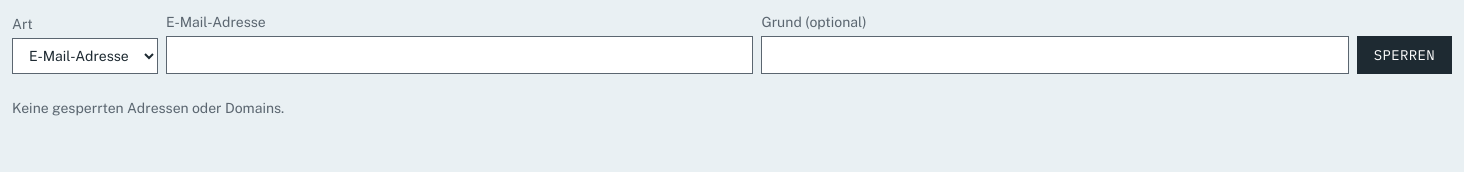
Test case: AdminBlocklistPage › adds a new blocked email and prepends it to the list
Expected: the text "Keine gesperrten Adressen oder Domains." is shown, [12,100,284,116]
Step 1. Type "new-spam@example.com" into the field labelled "E-Mail-Adresse" → (460, 55), box [166,36,753,74]
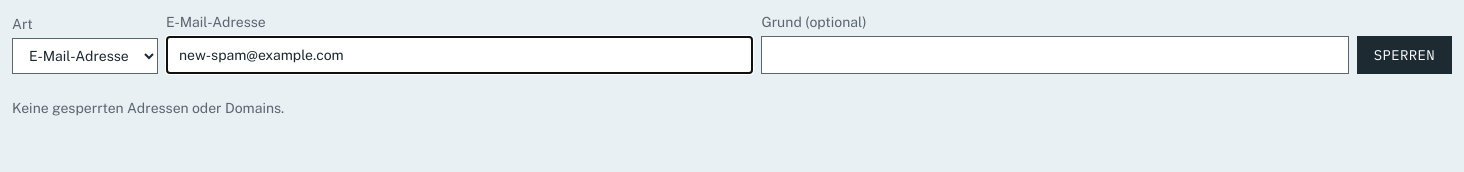
Step 2. Click the button "Sperren" → (1404, 55), box [1357,36,1452,74]
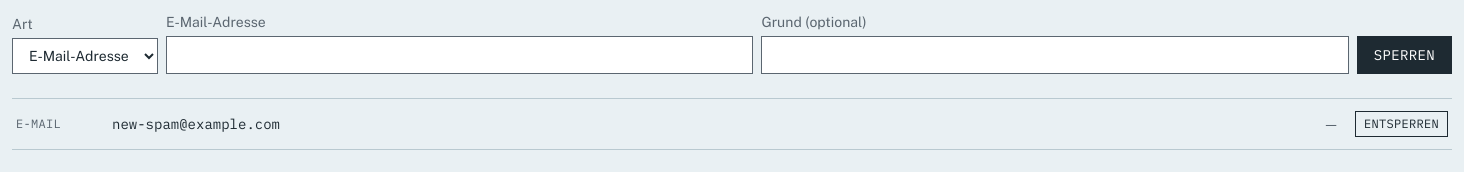
Expected: the text "new-spam@example.com" is shown, [112,115,280,133]
Expected: the field labelled "E-Mail-Adresse" is empty, [166,36,753,74]
